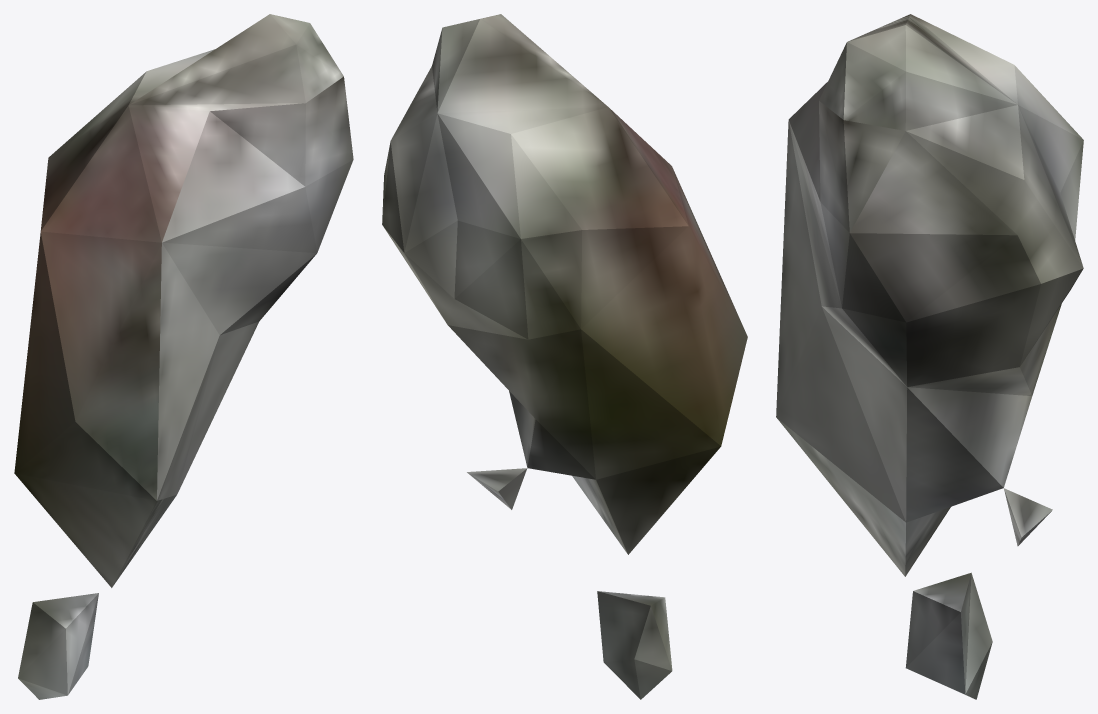
3 views of the same model, side by side, from view 1: azimuth 30°, elevation 25°; view 2: azimuth 150°, elevation 25°; view 3: azimuth 270°, elevation 25° (orthographic). The views are drawn at different scales.
Size of the model in its own units: 0.1699 by 0.337 by 0.1185.
Materials: 1 (1 with a texture image).
